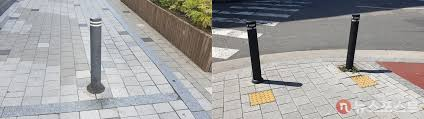guide_blocks: (245, 89, 277, 105), (348, 75, 378, 89)
